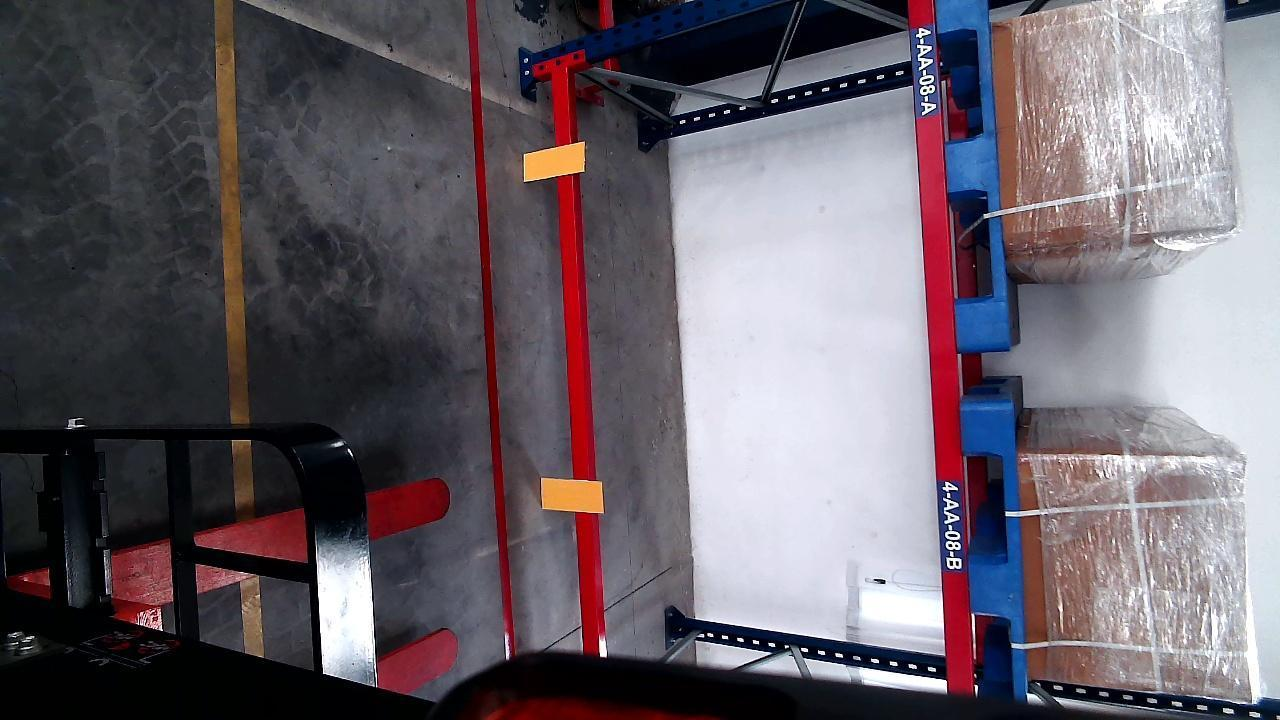h_rack: (909, 0, 969, 693), (553, 70, 602, 657)
orange_strip: (522, 141, 584, 182), (540, 477, 602, 513)
red_line: (473, 0, 511, 664)
small_pallet: (938, 0, 1008, 347), (965, 406, 1025, 691)
yellow_line: (215, 0, 250, 444)
